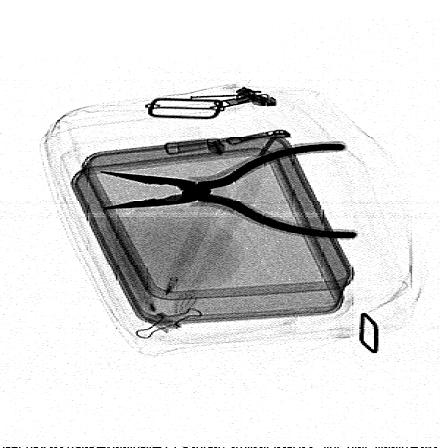Pliers: (96, 142, 362, 239)
